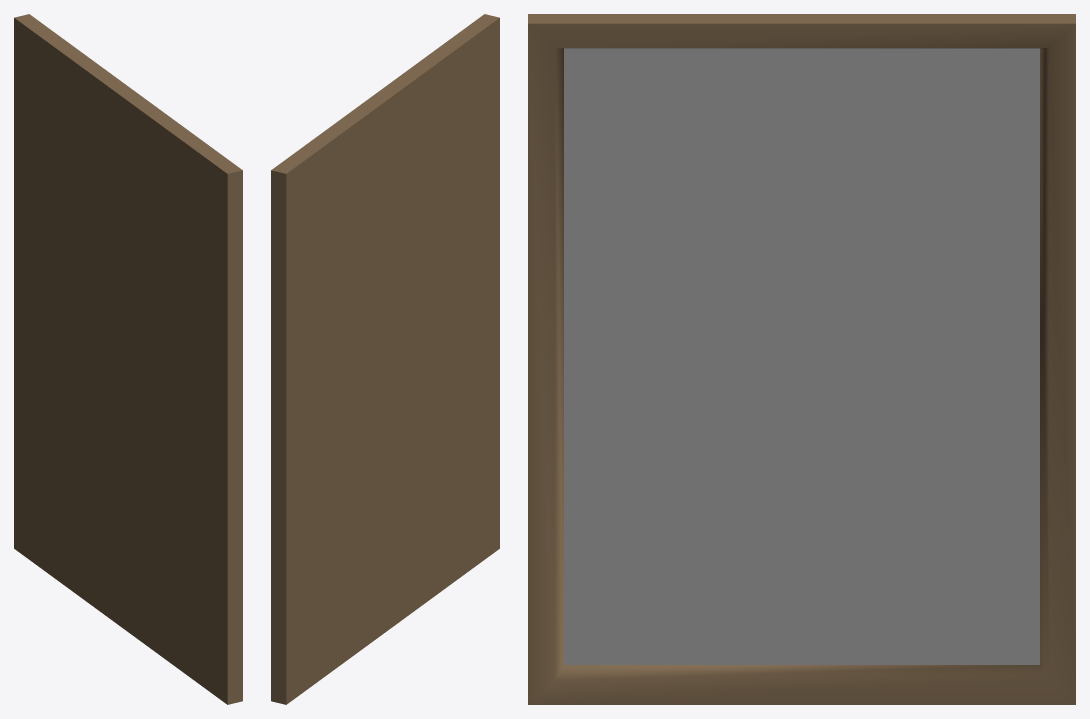
The model's file is Picture.fbx.
3 views of the same model, side by side, from view 1: azimuth 30°, elevation 25°; view 2: azimuth 150°, elevation 25°; view 3: azimuth 270°, elevation 25° (orthographic). The views are drawn at different scales.
Parts seen in each view (by area): view 1: polySurface4; view 2: polySurface4; view 3: polySurface5, polySurface4.
Part boxes in pixels (x1,y1,x2,y2): polySurface4: [14, 14, 242, 704]; polySurface4: [271, 14, 499, 704]; polySurface5: [564, 48, 1039, 664]; polySurface4: [528, 14, 1075, 704].
Size of the model in its own units: 0.2516 by 8.39 by 6.12.
